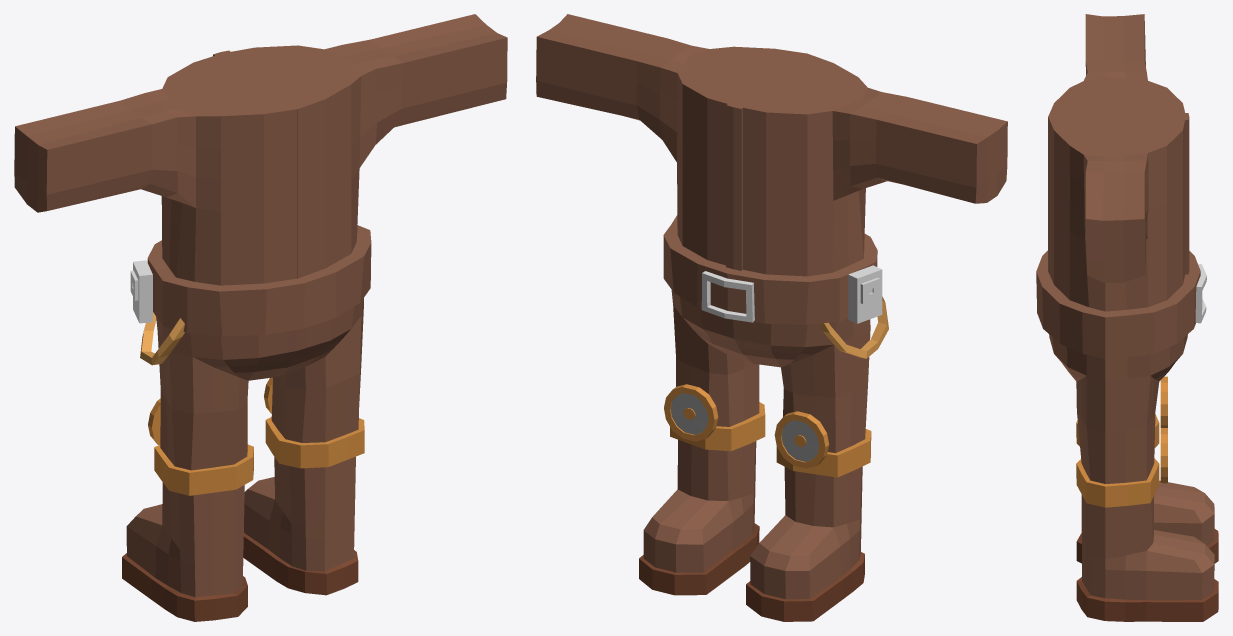
File: EngineBotEST.fbx
3 renders of one model, left to right at view 1: azimuth 30°, elevation 25°; view 2: azimuth 150°, elevation 25°; view 3: azimuth 270°, elevation 25°, orthographic. The views are drawn at different scales.
Parts seen in each view (by area): view 1: Cube, Cube.006, Cube.005, Cylinder, Cube.003, Cube.002; view 2: Cube, Cube.006, Cube.005, Cube.002, Cube.007, Cube.003, Cube.001, Cylinder; view 3: Cube, Cube.006, Cube.005, Cube.002, Cube.001.
Boxes of the visible parts, <box> form: Cube: <box>14,14,507,597</box>; Cube.006: <box>122,533,358,621</box>; Cube.005: <box>154,417,364,495</box>; Cylinder: <box>140,312,184,365</box>; Cube.003: <box>133,260,152,323</box>; Cube.002: <box>148,377,272,445</box>; Cube: <box>536,14,1007,599</box>; Cube.006: <box>639,523,864,621</box>; Cube.005: <box>670,402,871,477</box>; Cube.002: <box>664,384,829,468</box>; Cube.007: <box>670,393,819,461</box>; Cube.003: <box>848,265,882,323</box>; Cube.001: <box>701,271,754,322</box>; Cylinder: <box>820,296,888,358</box>; Cube: <box>1036,14,1214,600</box>; Cube.006: <box>1076,529,1218,621</box>; Cube.005: <box>1076,414,1159,507</box>; Cube.002: <box>1160,376,1167,483</box>; Cube.001: <box>1195,264,1206,323</box>.
Size of the model in its own units: 376 by 399 by 142.
